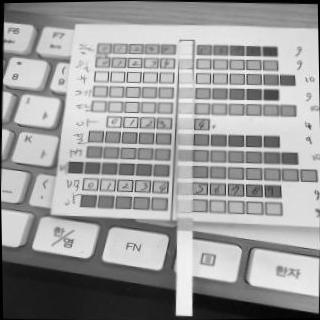mark: (177, 116, 192, 130), (176, 148, 192, 161), (176, 164, 192, 177), (176, 182, 192, 195), (177, 199, 193, 212), (178, 102, 194, 114), (178, 44, 194, 56), (176, 218, 192, 230), (176, 133, 192, 144), (178, 72, 192, 84), (180, 87, 193, 98), (179, 59, 192, 69)
